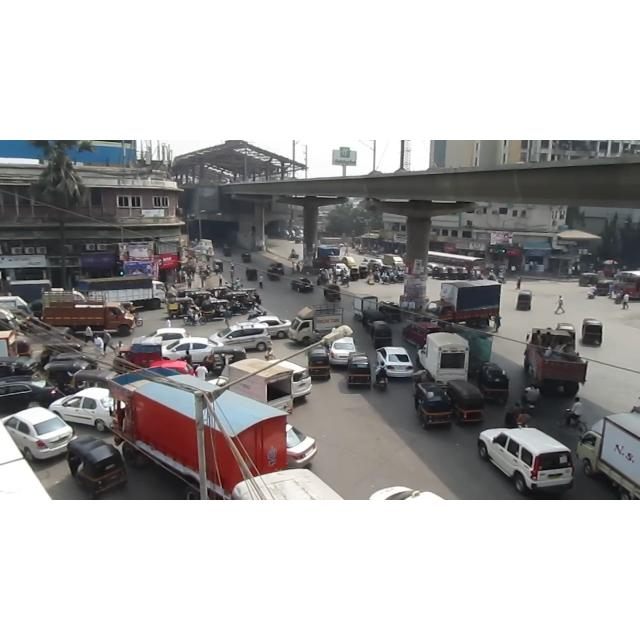auto: (66, 434, 133, 496), (450, 380, 487, 426), (416, 386, 452, 428), (478, 364, 512, 404), (306, 349, 334, 383), (347, 358, 375, 388), (583, 314, 605, 350), (516, 289, 532, 315)
car: (477, 430, 580, 490), (5, 403, 83, 457), (47, 387, 117, 429), (1, 372, 57, 410), (213, 325, 277, 349), (375, 348, 416, 378), (327, 335, 361, 365)
truck: (103, 358, 294, 499), (572, 410, 640, 500), (39, 288, 145, 336), (526, 326, 591, 400), (423, 273, 503, 329), (414, 329, 474, 386), (286, 299, 348, 349), (90, 277, 172, 309)
